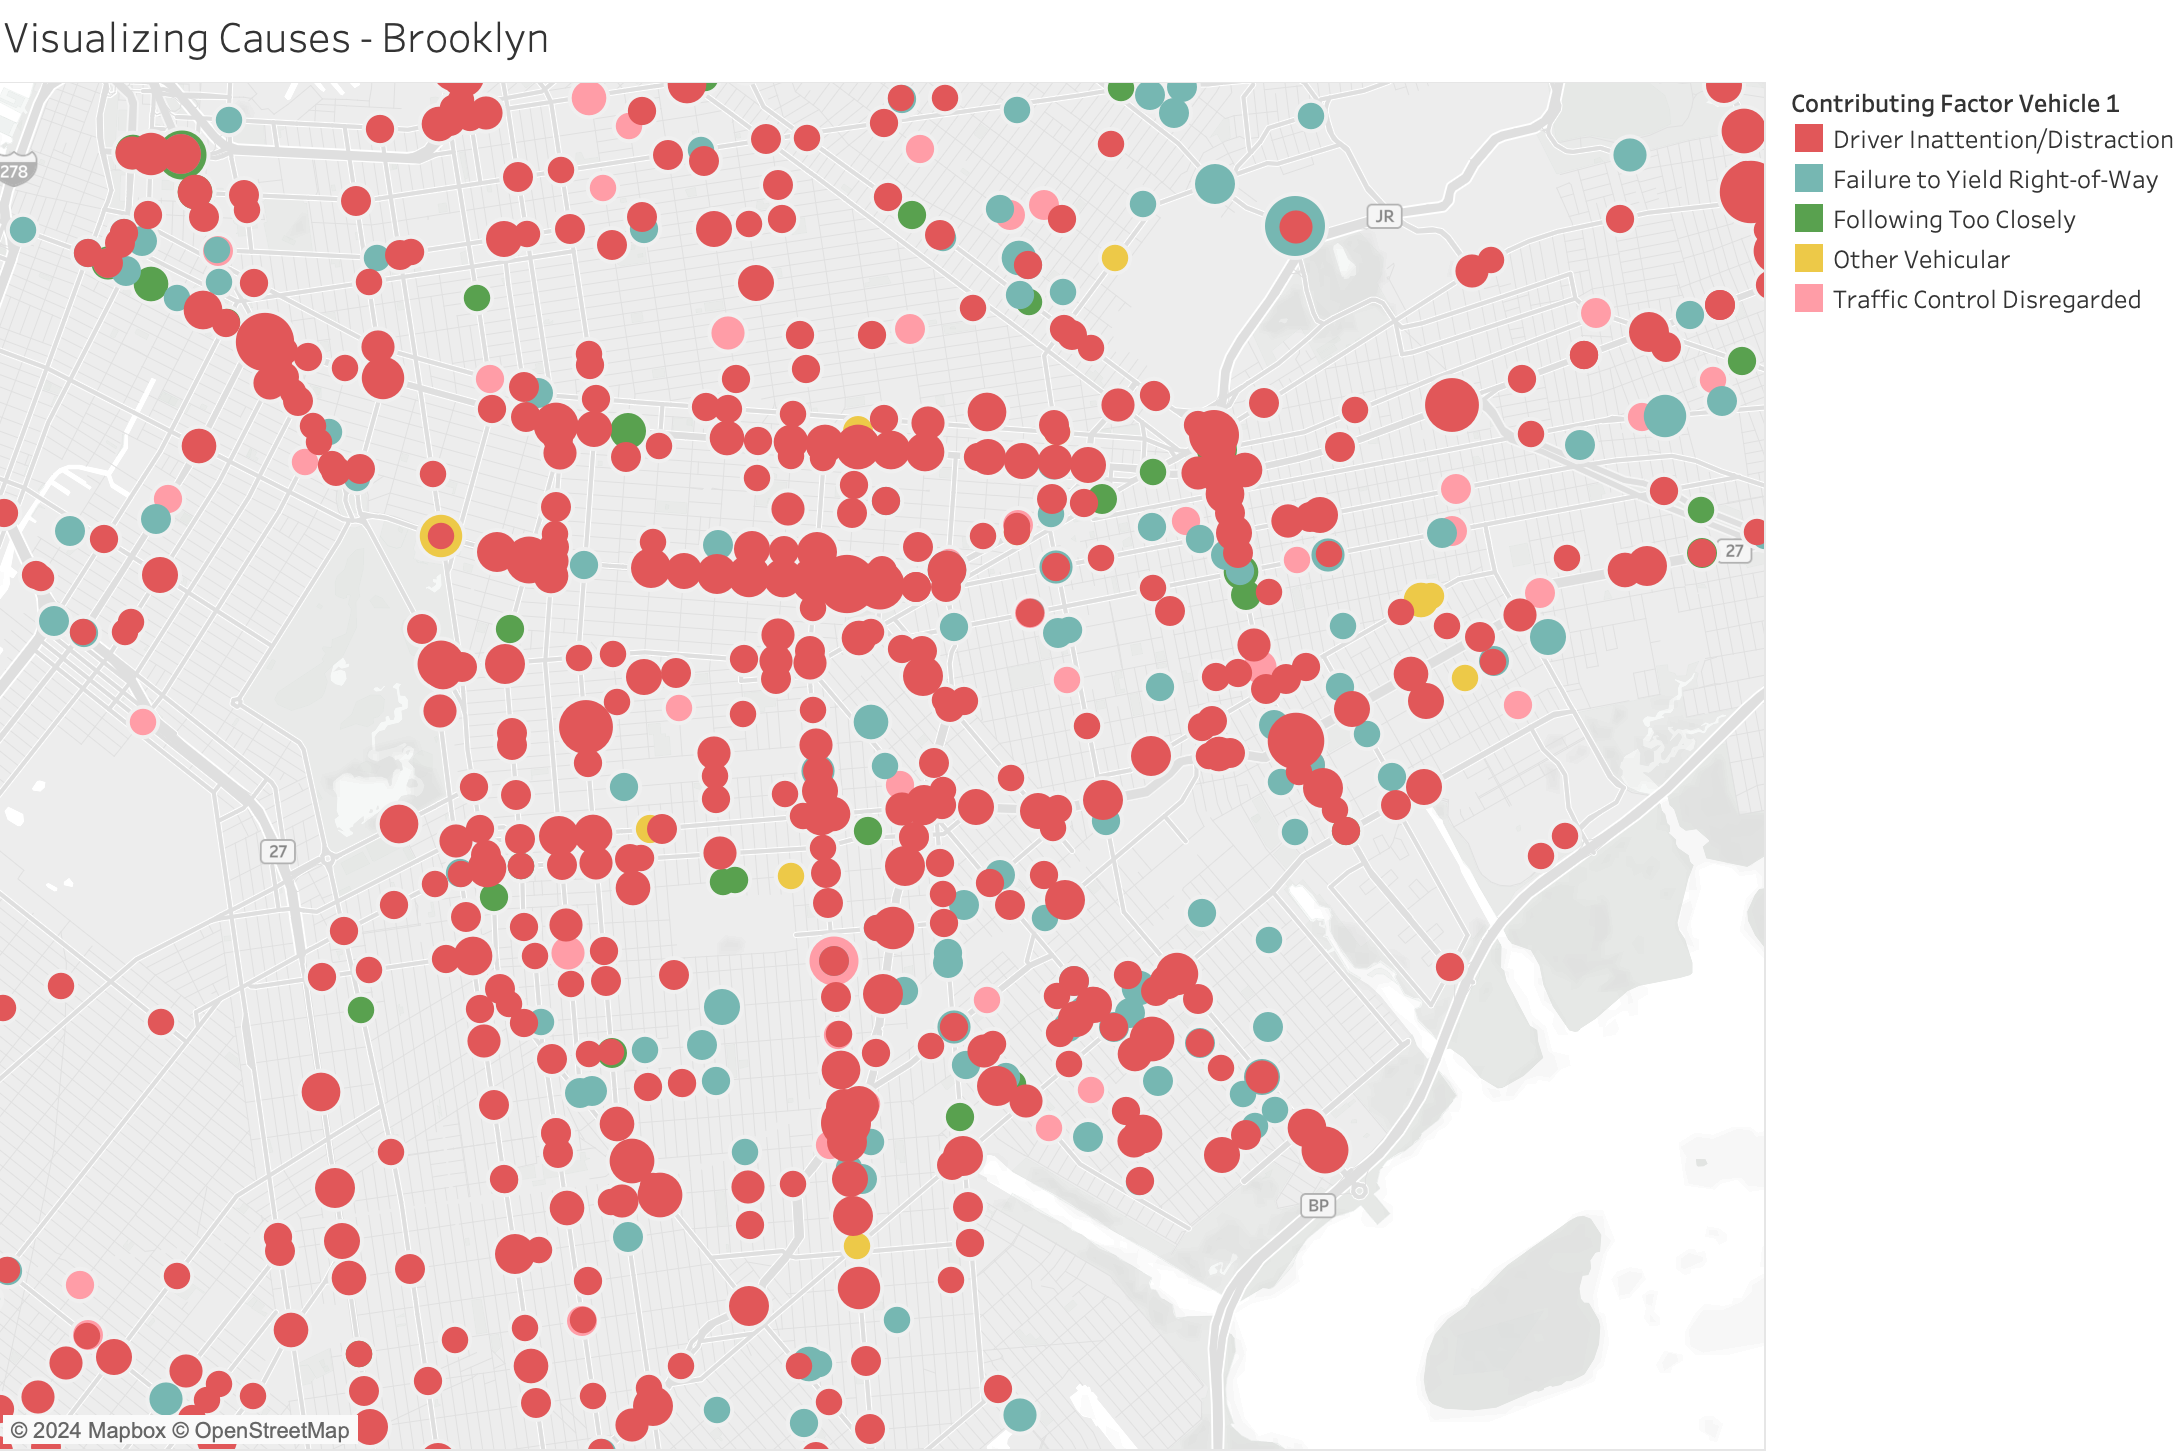

What the dashboard file says about the page in this screenshot:
{"tool":"tableau","page":{"name":"Dashboard 1","canvas":[1000,1000],"units":"permille","ordinal":0},"visuals":[{"type":"worksheet","title":"Sheet 1","mark":"Automatic","rows":["LATITUDE"],"cols":["LONGITUDE"],"box":[6.5,11.4,856.8,977.2]},{"type":"legend","title":"Sheet 1","param":"[federated.1myyyvv1h2nzx114ohmcz0o926mb].[sum:NUMBER OF PERSONS INJURED:qk]","box":[863.3,11.4,130.2,92.6]}]}

Visuals, with their boxes on the dashboard's canvas, which has no fixed pixel size, in thousandths of its width and height (x1, y1, x2, y2). These are canvas units, not pixel positions in the 2182x1451 screenshot, which may show the page scaled, cropped or inside an application window:
"Sheet 1" worksheet: 6,11,863,989
"Sheet 1" legend: 863,11,994,104
